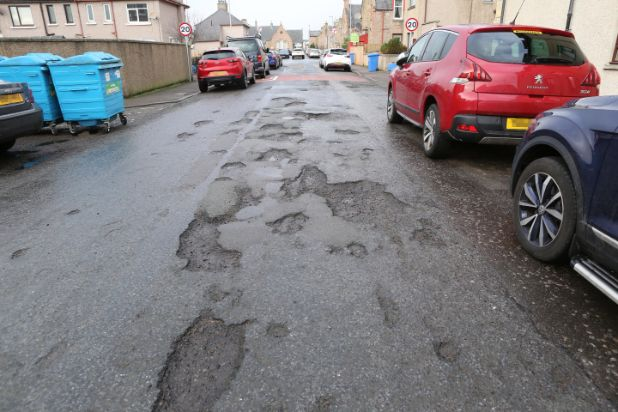pothole: (279, 161, 413, 253), (142, 312, 251, 411), (175, 206, 246, 279), (266, 206, 309, 241), (253, 120, 304, 146), (254, 146, 296, 166)
